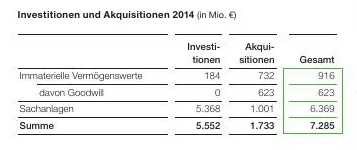table: (0, 0, 357, 150)
